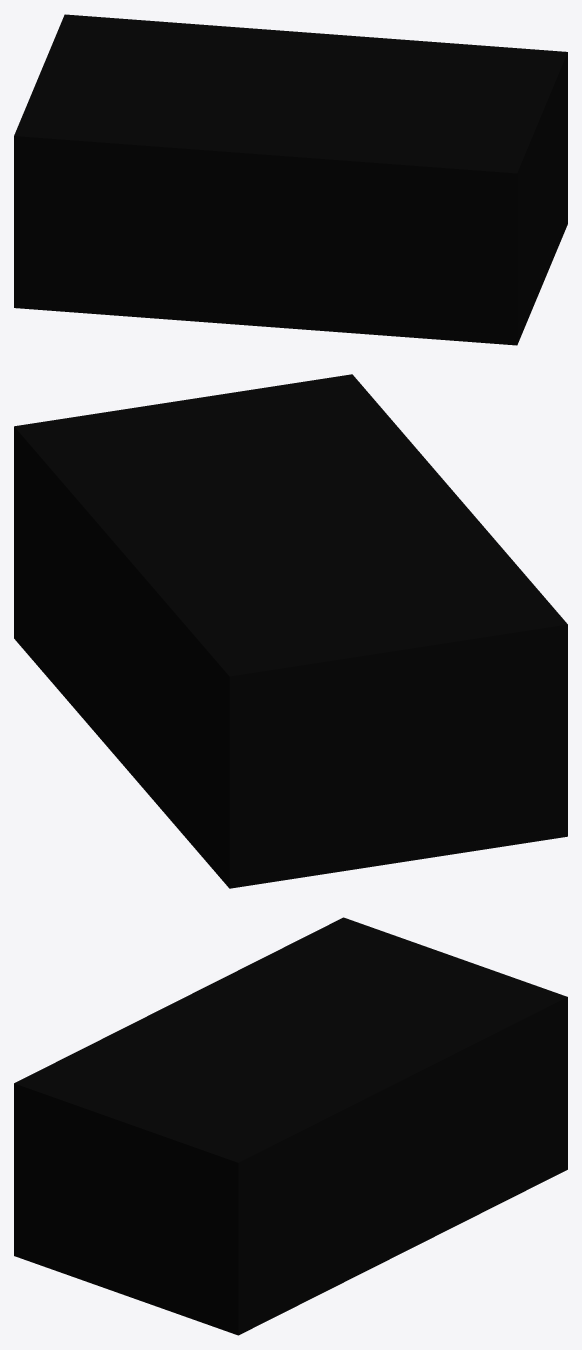
3 views of the same model, one above another, from view 1: azimuth 30°, elevation 25°; view 2: azimuth 150°, elevation 25°; view 3: azimuth 270°, elevation 25° (orthographic). The views are drawn at different scales.
Parts seen in each view (by area): view 1: Joint_0_Object_0; view 2: Joint_0_Object_0; view 3: Joint_0_Object_0.
Part boxes in pixels (x1,y1,x2,y2): Joint_0_Object_0: (14,14,567,345); Joint_0_Object_0: (14,374,567,888); Joint_0_Object_0: (14,917,567,1335).
Size of the model in its own units: 525 by 172 by 500.
Materials: 1 (1 with a texture image).
